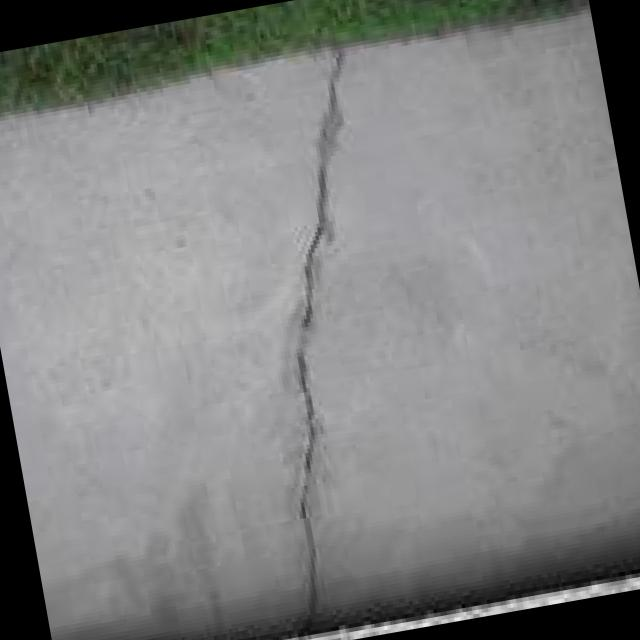crack: (294, 53, 344, 625)
